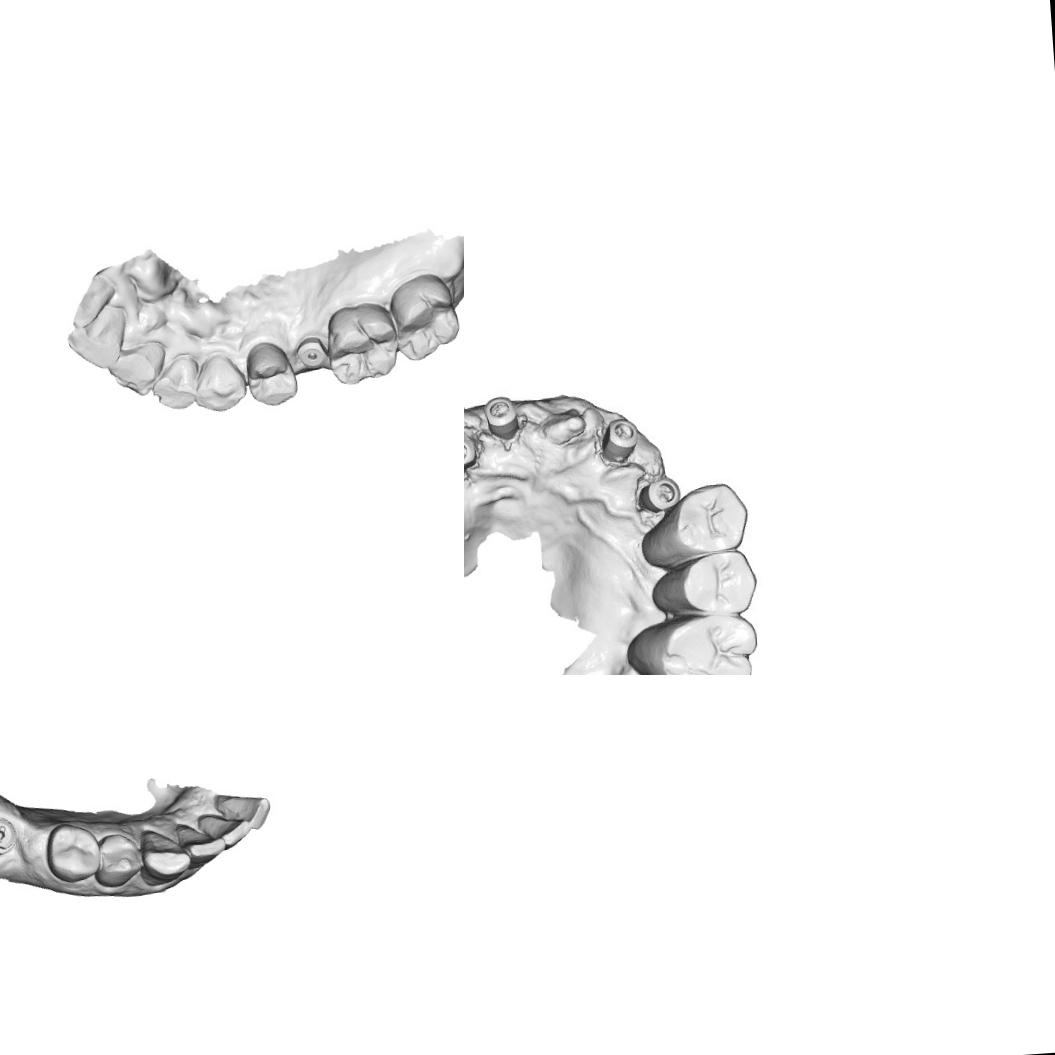canine: (191, 349, 249, 414), (138, 824, 192, 886)
implant: (485, 392, 527, 448), (598, 420, 644, 461), (636, 473, 682, 512), (296, 332, 328, 372), (464, 431, 477, 470)
implant_minus: (0, 813, 18, 857)
incisor: (61, 302, 130, 372), (106, 337, 168, 398), (148, 350, 202, 412), (213, 786, 272, 830), (196, 812, 252, 852), (178, 830, 228, 870)
molar: (385, 269, 463, 363), (322, 299, 402, 387), (658, 611, 762, 675)
premolar: (681, 548, 760, 611), (675, 484, 744, 552), (239, 337, 299, 408), (43, 821, 102, 884), (93, 831, 144, 889)
